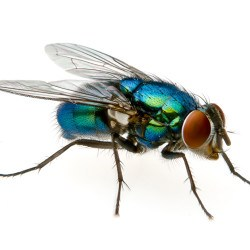green bottles fly: (2, 31, 250, 239)
